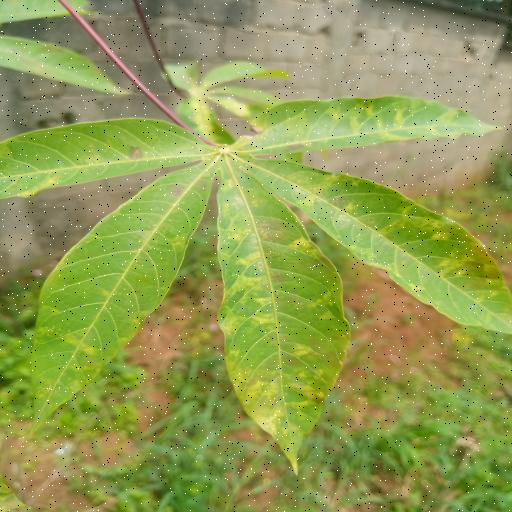Cassava_Mosaic: (0, 92, 512, 479)
